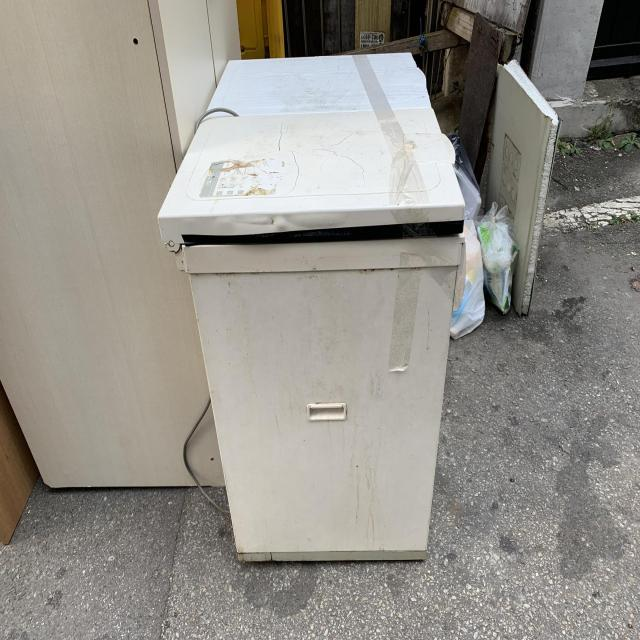refrigerator: (156, 50, 465, 562)
